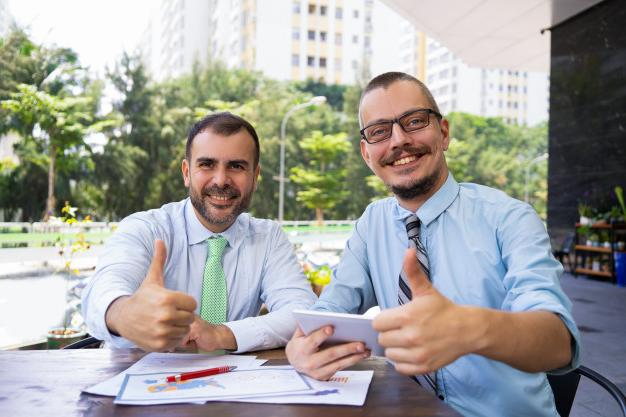thumbsup: (372, 247, 443, 374), (145, 238, 198, 353)
